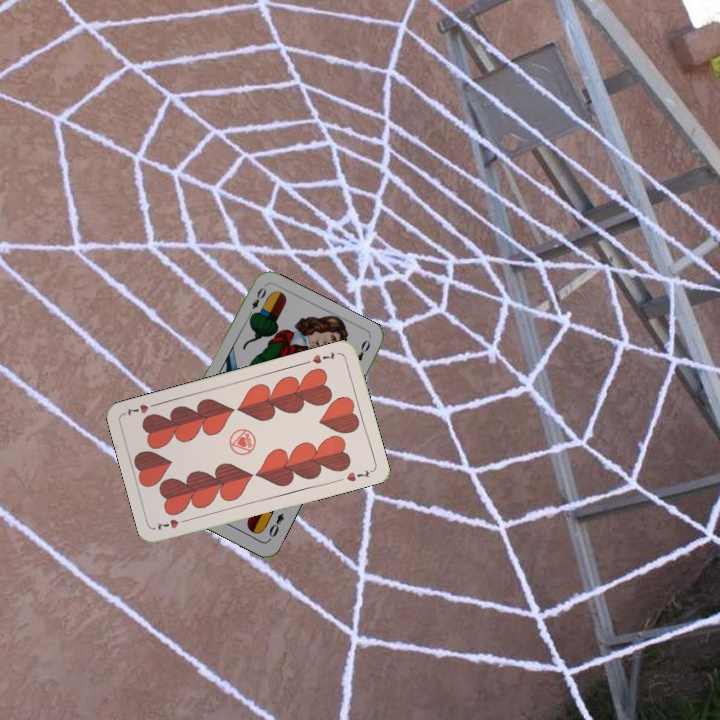EO: (244, 283, 269, 321), (265, 509, 286, 543)
H7: (153, 515, 192, 533), (308, 348, 338, 367)
